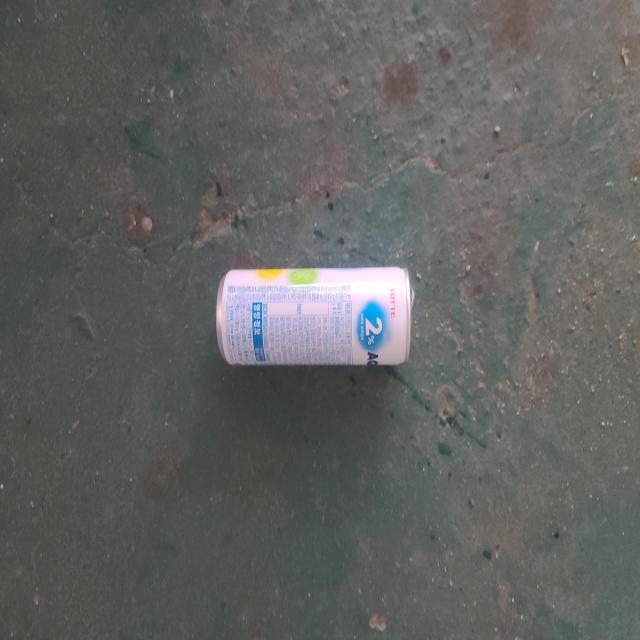can: (216, 267, 413, 366)
